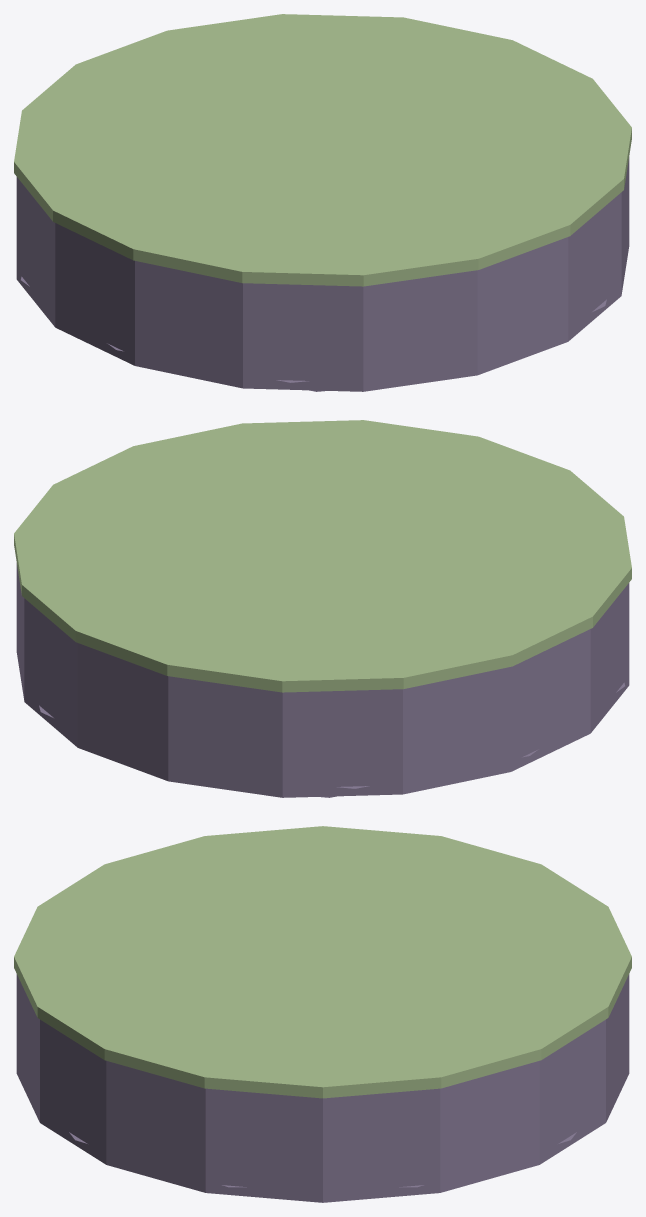
File: Island.glb
3 renders of one model, top to bottom at view 1: azimuth 30°, elevation 25°; view 2: azimuth 150°, elevation 25°; view 3: azimuth 270°, elevation 25°, orthographic.
Visible parts, largest first — view 1: Grass, Stone.002; view 2: Grass, Stone.002; view 3: Grass, Stone.002.
Part boxes in pixels (x1,y1,x2,y2): Grass: [14, 14, 631, 286]; Stone.002: [16, 157, 629, 391]; Grass: [14, 420, 631, 692]; Stone.002: [16, 563, 629, 797]; Grass: [14, 826, 631, 1098]; Stone.002: [16, 974, 629, 1202].
Size of the model in its own units: 12 by 4.7 by 12.
